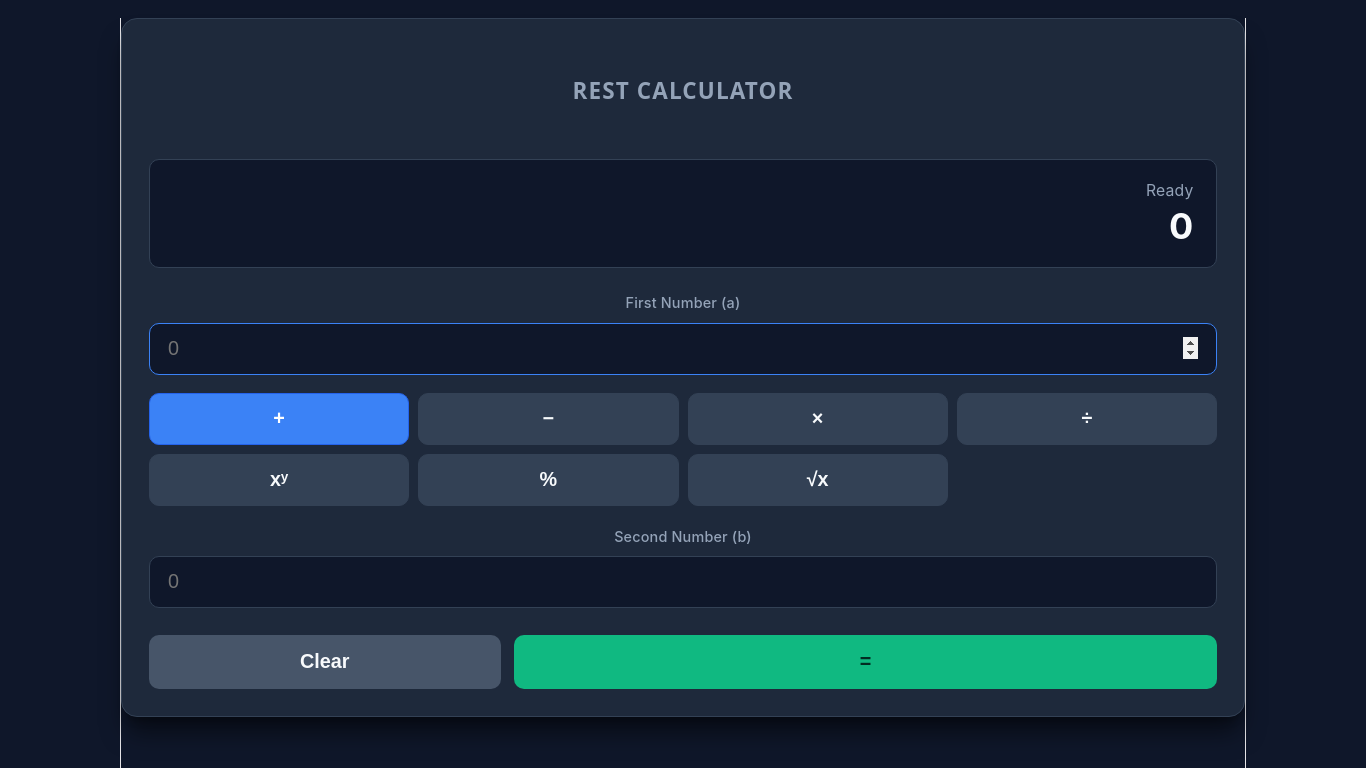
Test case: Calculator Component › switches operations and hides second input for unary sqrt operation
Click the button named "Square Root".
click(818, 480)  # box [688,454,948,506]
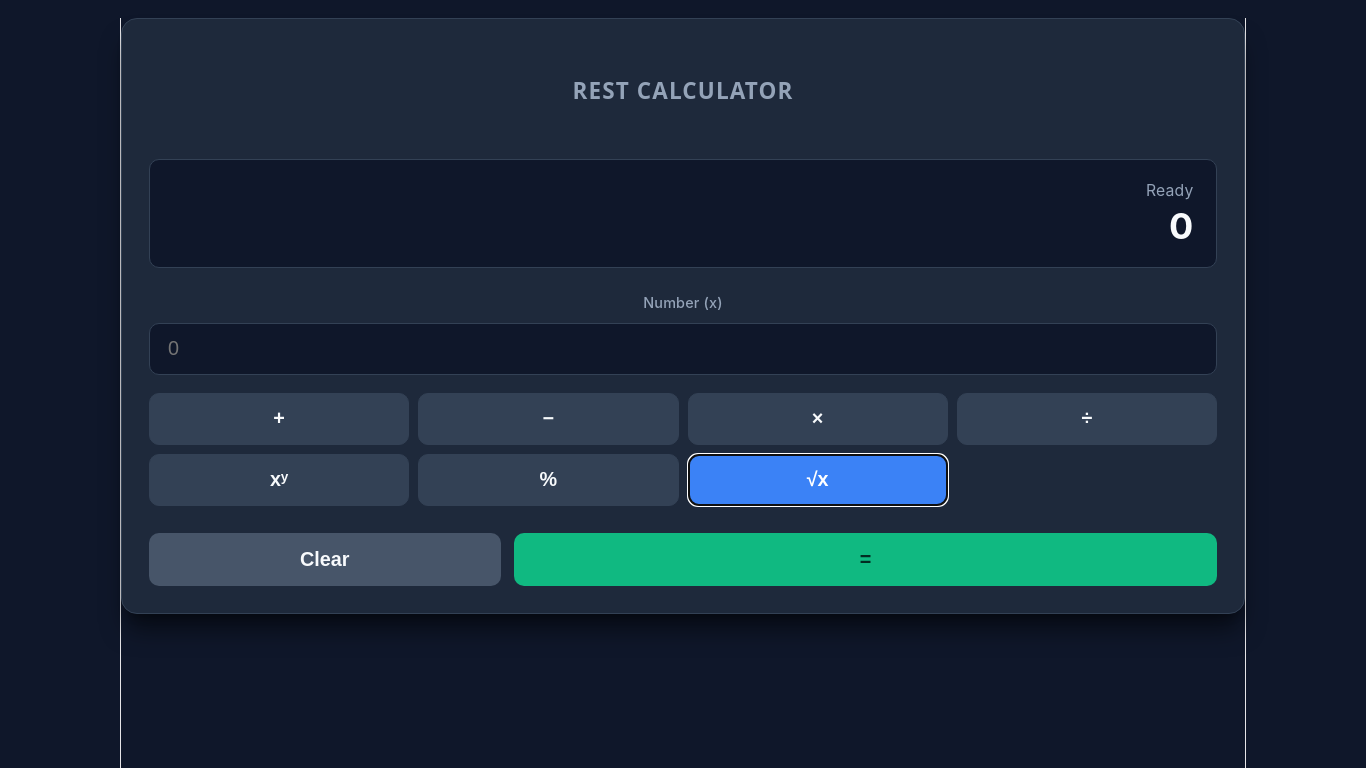
Expected: the number field labelled "Number (x)" is shown, [149,323,1217,375]
Now the label labelled "Second Number (b)" is gone
